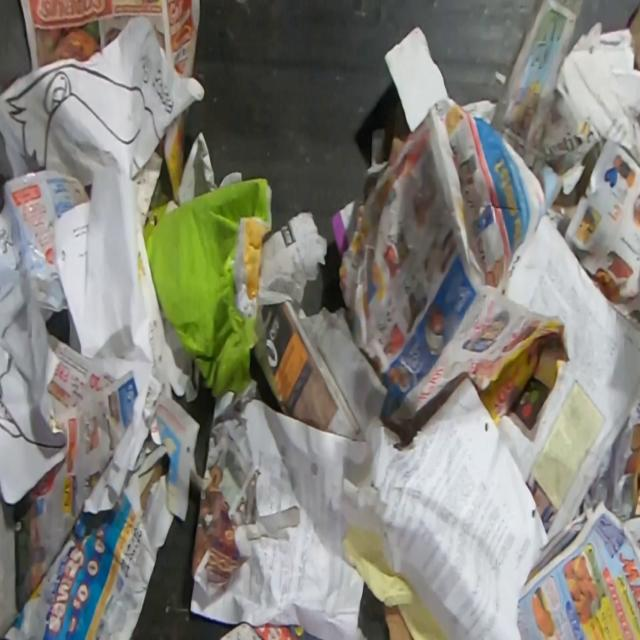cardboard: (146, 178, 272, 398), (143, 180, 178, 250), (624, 420, 640, 510), (382, 602, 412, 639)
